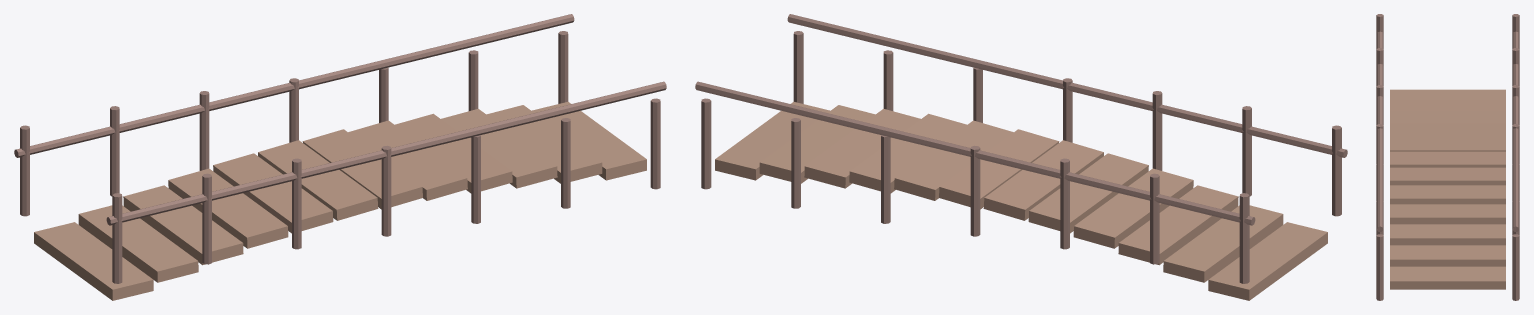
Rendered from bridge.glb.
The picture shows the model from 3 angles, left to right: view 1: azimuth 30°, elevation 25°; view 2: azimuth 150°, elevation 25°; view 3: azimuth 270°, elevation 25°; orthographic projection. The views are drawn at different scales.
Visible parts, largest first — view 1: bridge_27, bridge_19, bridge_0, bridge_1, bridge_3, bridge_2, bridge_5, bridge_4, bridge_7, bridge_6, bridge_9, bridge_11 (+16 smaller); view 2: bridge_19, bridge_27, bridge_0, bridge_1, bridge_3, bridge_2, bridge_5, bridge_4, bridge_7, bridge_6, bridge_9, bridge_11 (+16 smaller); view 3: bridge_11, bridge_9, bridge_10, bridge_8, bridge_7, bridge_6, bridge_5, bridge_4, bridge_3, bridge_2, bridge_0, bridge_1 (+12 smaller).
Boxes of the visible parts, left/top/right/bottom form: bridge_27: left=106, top=81, right=666, bottom=225; bridge_19: left=14, top=14, right=574, bottom=157; bridge_0: left=34, top=222, right=153, bottom=300; bridge_1: left=78, top=205, right=198, bottom=282; bridge_3: left=168, top=168, right=288, bottom=248; bridge_2: left=123, top=185, right=243, bottom=265; bridge_5: left=258, top=140, right=378, bottom=220; bridge_4: left=213, top=153, right=333, bottom=233; bridge_7: left=348, top=120, right=467, bottom=200; bridge_6: left=302, top=129, right=422, bottom=209; bridge_9: left=441, top=108, right=557, bottom=188; bridge_11: left=532, top=101, right=646, bottom=180; bridge_19: left=695, top=81, right=1255, bottom=225; bridge_27: left=787, top=14, right=1347, bottom=157; bridge_0: left=1208, top=222, right=1327, bottom=300; bridge_1: left=1163, top=205, right=1283, bottom=282; bridge_3: left=1073, top=168, right=1193, bottom=248; bridge_2: left=1118, top=185, right=1238, bottom=265; bridge_5: left=983, top=140, right=1103, bottom=220; bridge_4: left=1028, top=153, right=1148, bottom=233; bridge_7: left=894, top=120, right=1013, bottom=200; bridge_6: left=939, top=129, right=1059, bottom=209; bridge_9: left=804, top=108, right=920, bottom=188; bridge_11: left=715, top=101, right=829, bottom=180; bridge_11: left=1390, top=266, right=1505, bottom=289; bridge_9: left=1390, top=224, right=1505, bottom=245; bridge_10: left=1390, top=245, right=1505, bottom=266; bridge_8: left=1390, top=204, right=1505, bottom=224; bridge_7: left=1390, top=185, right=1505, bottom=204; bridge_6: left=1390, top=167, right=1505, bottom=185; bridge_5: left=1390, top=151, right=1505, bottom=167; bridge_4: left=1390, top=137, right=1505, bottom=151; bridge_3: left=1390, top=123, right=1505, bottom=136; bridge_2: left=1390, top=111, right=1505, bottom=123; bridge_0: left=1390, top=89, right=1505, bottom=100; bridge_1: left=1390, top=100, right=1505, bottom=111.
Bounding box in the file's own units: 5.7 × 1.21 × 1.73.
